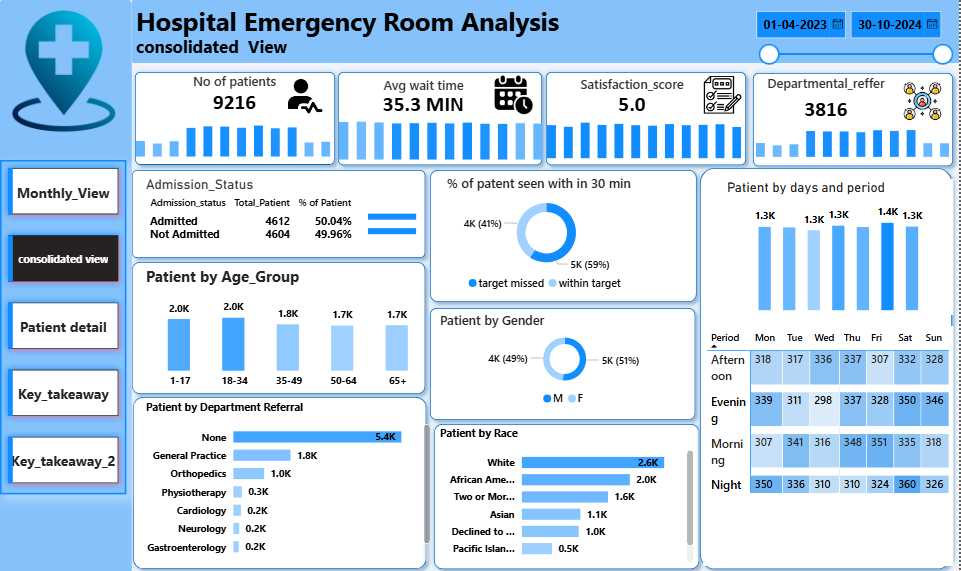

What the dashboard file says about the page in this screenshot:
{"tool":"powerbi","page":{"name":"consolidated view","canvas":[1200,720],"ordinal":1},"visuals":[{"type":"shape","box":[0,0,166.3,720],"z":0},{"type":"shape","box":[166.3,0,1113.7,80.4],"z":1000},{"type":"textbox","box":[166.7,0,578.7,56.8],"z":2000},{"type":"textbox","box":[166.7,40,216.7,40],"z":3000},{"type":"slicer","fields":{"Values":["Calendar_Table.Date"]},"box":[933.3,5,266.7,80],"z":4000},{"type":"shape","box":[161.9,83.4,265,131],"z":5000},{"type":"shape","box":[416.7,83.3,270,131.7],"z":6000},{"type":"shape","box":[676.7,83.3,265,131.7],"z":7000},{"type":"shape","box":[935,85,265,131.7],"z":8000},{"type":"shape","box":[158.3,206.7,381.7,125],"z":9000},{"type":"shape","box":[158.3,321.7,381.7,180],"z":10000},{"type":"shape","box":[160,490,381.7,230],"z":11000},{"type":"card","title":"No of patients","fields":{"Values":["Hospital Emergency Room Data.Total_Patient"]},"box":[223.8,91.2,141.2,57.5],"z":12000},{"type":"clusteredColumnChart","fields":{"Y":["Hospital Emergency Room Data.Total_Patient"],"Category":["Calendar_Table.Date.Variation.Date Hierarchy.Month"]},"box":[166.7,126.7,253.3,76.7],"z":13000},{"type":"card","title":"Avg wait time ","fields":{"Values":["Hospital Emergency Room Data.Avg_wait_time"]},"box":[427.5,96.2,206.2,52.5],"z":14000},{"type":"columnChart","fields":{"Y":["Avg(Hospital Emergency Room Data.Patient Waittime)"],"Category":["Calendar_Table.Date.Variation.Date Hierarchy.Month"]},"box":[420,135,265,71.7],"z":15000},{"type":"card","title":"Satisfaction_score","fields":{"Values":["Hospital Emergency Room Data.Patient_satisfaction score"]},"box":[710,95,162.5,55],"z":16000},{"type":"columnChart","fields":{"Y":["Avg(Hospital Emergency Room Data.Patient Satisfaction Score)"],"Category":["Calendar_Table.Date.Variation.Date Hierarchy.Month"]},"box":[680,135,253.3,70],"z":17000},{"type":"card","title":"Departmental_reffer","fields":{"Values":["Hospital Emergency Room Data.Patient_Referred"]},"box":[941.2,93.8,185,70],"z":18000},{"type":"columnChart","fields":{"Y":["Hospital Emergency Room Data.Patient_Referred"],"Category":["Calendar_Table.Date.Variation.Date Hierarchy.Month"]},"box":[941.7,135,251.7,68.3],"z":19000},{"type":"pivotTable","title":"Admission_Status","fields":{"Rows":["Hospital Emergency Room Data.Admission_status"],"Values":["Hospital Emergency Room Data.Total_Patient1","Divide(Hospital Emergency Room Data.Total_Patient, ScopedEval(Hospital Emergency Room Data.Total_Patient, []))"]},"box":[178.3,220.9,273.5,88.5],"z":20000},{"type":"barChart","fields":{"Category":["Hospital Emergency Room Data.Admission_status"],"Y":["Hospital Emergency Room Data.Total_Patient"]},"box":[456.7,246.7,88.3,63.3],"z":21000},{"type":"clusteredColumnChart","title":"Patient by Age_Group","fields":{"Category":["Hospital Emergency Room Data.Age_Group"],"Y":["Hospital Emergency Room Data.Total_Patient"]},"box":[178.3,333.9,367.4,160.9],"z":22000},{"type":"clusteredBarChart","title":"Patient by Department Referral","fields":{"Category":["Hospital Emergency Room Data.Department Referral"],"Y":["Hospital Emergency Room Data.Total_Patient"]},"box":[178.3,501.7,365,206.7],"z":23000},{"type":"shape","box":[531.7,206.7,348.3,180],"z":24000},{"type":"donutChart","title":"% of patent seen with in 30 min","fields":{"Y":["Hospital Emergency Room Data.Total_Patient"],"Category":["Hospital Emergency Room Data.Wait_time"]},"box":[555,218.3,258.3,155],"z":25000},{"type":"shape","box":[531.7,378.3,346.7,155],"z":26000},{"type":"donutChart","title":"Patient by Gender","fields":{"Y":["Hospital Emergency Room Data.Total_Patient"],"Category":["Hospital Emergency Room Data.Patient Gender"]},"box":[546.7,390,321.7,128.3],"z":27000},{"type":"shape","box":[536.7,523.3,346.7,196.7],"z":28000},{"type":"clusteredBarChart","title":"Patient by Race","fields":{"Y":["Hospital Emergency Room Data.Total_Patient"],"Category":["Hospital Emergency Room Data.Patient Race"]},"box":[546.7,533.3,326.7,175],"z":29000},{"type":"shape","box":[868.3,203.3,330,516.7],"z":30000},{"type":"pivotTable","fields":{"Rows":["Hospital Emergency Room Data.Time_Bucket"],"Columns":["Calendar_Table.Day_name"],"Values":["Hospital Emergency Room Data.Total_Patient"]},"box":[880,408.3,313.3,300],"z":31000},{"type":"columnChart","title":"Patient by days and period","fields":{"Category":["Calendar_Table.week_day"],"Y":["Hospital Emergency Room Data.Total_Patient"]},"box":[905,225,288.3,170],"z":32000},{"type":"image","box":[0,5,161.7,170],"z":33000},{"type":"image","box":[351.7,95,63.3,53.3],"z":34000},{"type":"image","box":[606.7,88.3,73.3,61.7],"z":35000},{"type":"image","box":[860,91.7,88.3,56.7],"z":36000},{"type":"image","box":[1116.7,98.3,76.7,58.3],"z":37000},{"type":"pageNavigator","box":[1.7,201.7,158.3,418.3],"z":38000}]}

Visuals, with their boxes in screenshot pixels (x1, y1, x2, y2), scaled from the page's 1200x720 canvas onto the 961x571 screenshot:
shape: Rect(0, 0, 133, 570)
shape: Rect(133, 0, 960, 64)
textbox: Rect(133, 0, 597, 45)
textbox: Rect(133, 32, 307, 63)
slicer - Calendar_Table.Date: Rect(747, 4, 960, 67)
shape: Rect(130, 66, 342, 170)
shape: Rect(334, 66, 550, 171)
shape: Rect(542, 66, 754, 171)
shape: Rect(749, 67, 960, 172)
shape: Rect(127, 164, 432, 263)
shape: Rect(127, 255, 432, 398)
shape: Rect(128, 389, 434, 570)
"No of patients" card: Rect(179, 72, 292, 118)
clusteredColumnChart - Hospital Emergency Room Data.Total_Patient x Calendar_Table.Date.Variation.Date Hierarchy.Month: Rect(133, 100, 336, 161)
"Avg wait time " card: Rect(342, 76, 507, 118)
columnChart - Avg(Hospital Emergency Room Data.Patient Waittime) x Calendar_Table.Date.Variation.Date Hierarchy.Month: Rect(336, 107, 549, 164)
"Satisfaction_score" card: Rect(569, 75, 699, 119)
columnChart - Avg(Hospital Emergency Room Data.Patient Satisfaction Score) x Calendar_Table.Date.Variation.Date Hierarchy.Month: Rect(545, 107, 747, 163)
"Departmental_reffer" card: Rect(754, 74, 902, 130)
columnChart - Hospital Emergency Room Data.Patient_Referred x Calendar_Table.Date.Variation.Date Hierarchy.Month: Rect(754, 107, 956, 161)
"Admission_Status" pivotTable: Rect(143, 175, 362, 245)
barChart - Hospital Emergency Room Data.Admission_status x Hospital Emergency Room Data.Total_Patient: Rect(366, 196, 436, 246)
"Patient by Age_Group" clusteredColumnChart: Rect(143, 265, 437, 392)
"Patient by Department Referral" clusteredBarChart: Rect(143, 398, 435, 562)
shape: Rect(426, 164, 705, 307)
"% of patent seen with in 30 min" donutChart: Rect(444, 173, 651, 296)
shape: Rect(426, 300, 703, 423)
"Patient by Gender" donutChart: Rect(438, 309, 695, 411)
shape: Rect(430, 415, 707, 570)
"Patient by Race" clusteredBarChart: Rect(438, 423, 699, 562)
shape: Rect(695, 161, 960, 570)
pivotTable - Hospital Emergency Room Data.Time_Bucket x Calendar_Table.Day_name: Rect(705, 324, 956, 562)
"Patient by days and period" columnChart: Rect(725, 178, 956, 313)
image: Rect(0, 4, 129, 139)
image: Rect(282, 75, 332, 118)
image: Rect(486, 70, 545, 119)
image: Rect(689, 73, 759, 118)
image: Rect(894, 78, 956, 124)
pageNavigator: Rect(1, 160, 128, 492)
